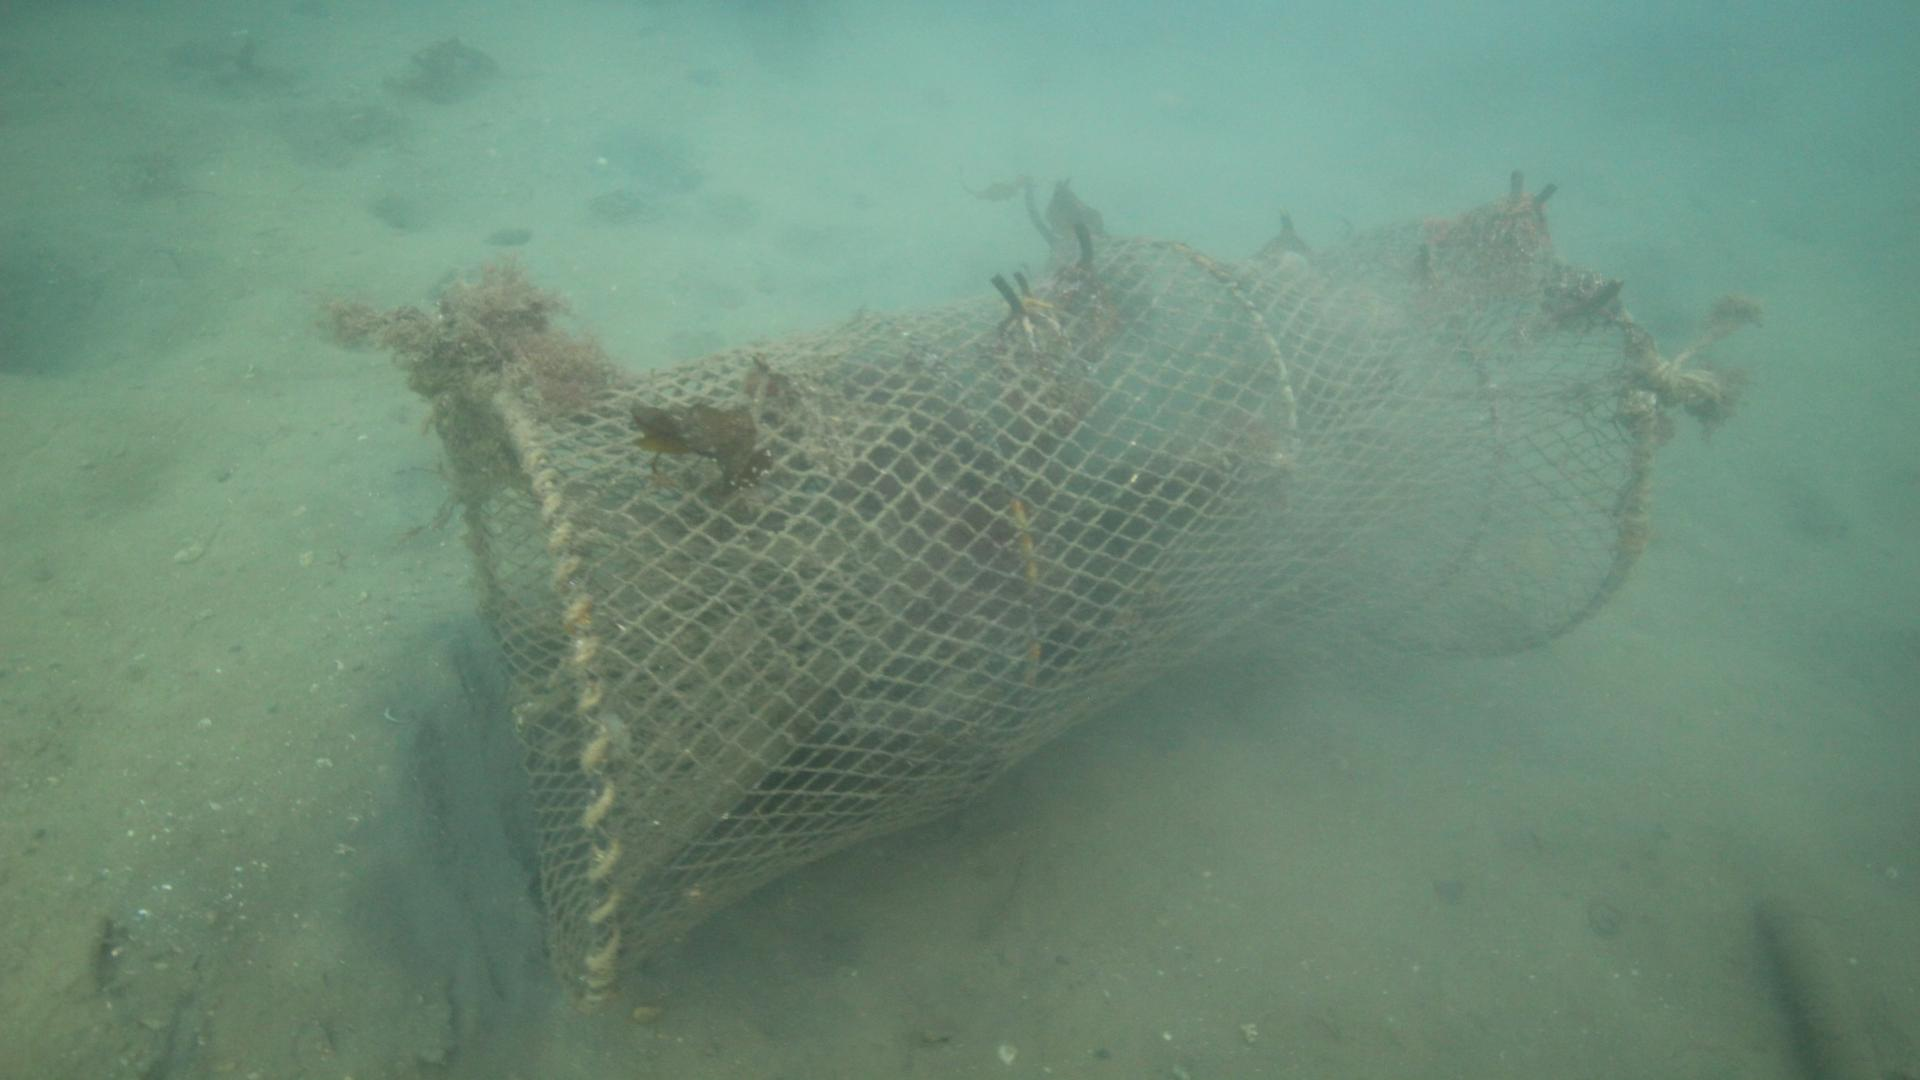spring fish trap: (433, 167, 1655, 1014)
